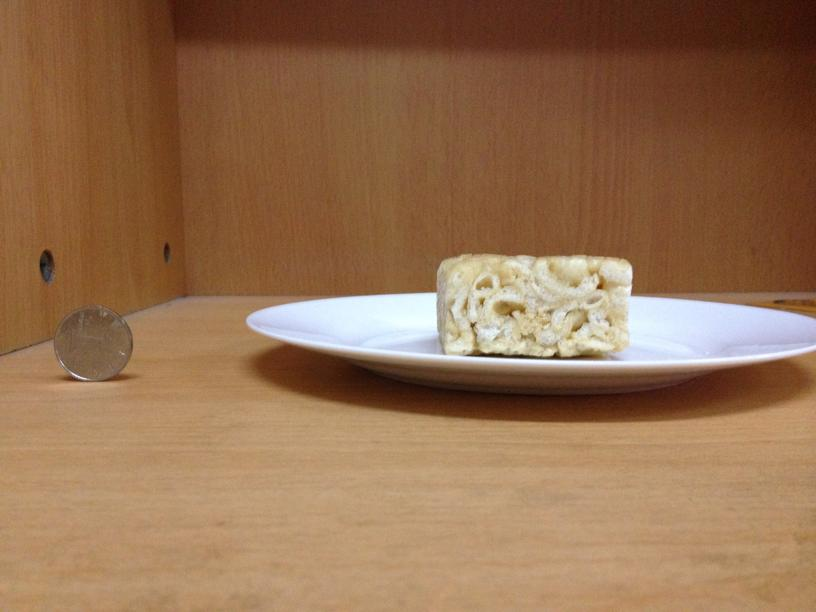coin: (52, 307, 132, 381)
sachima: (435, 251, 632, 354)
